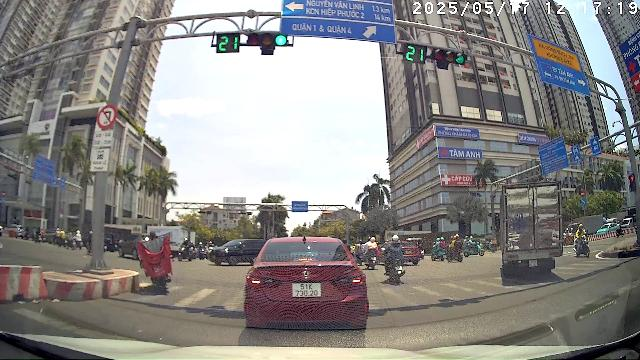103c-cam-oto-re-trai: (96, 104, 118, 129)
